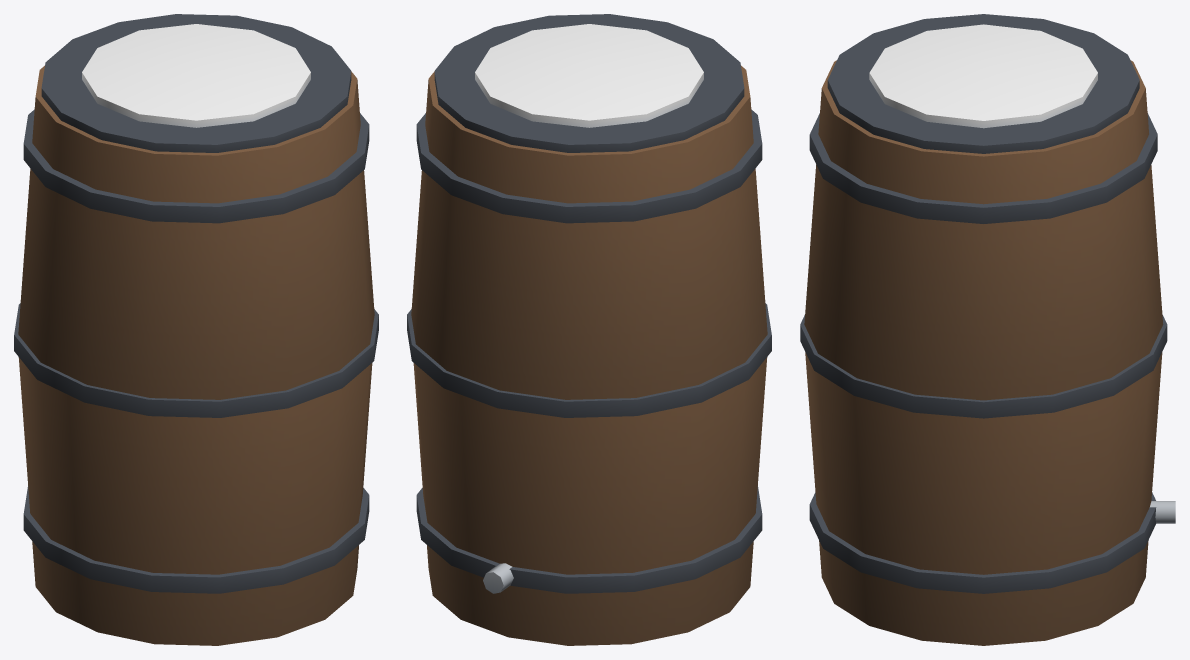
The model's file is ck_rain_barrel.fbx.
The picture shows the model from 3 angles, left to right: view 1: azimuth 30°, elevation 25°; view 2: azimuth 150°, elevation 25°; view 3: azimuth 270°, elevation 25°; orthographic projection.
Visible parts, largest first — view 1: ck_rain_barrel; view 2: ck_rain_barrel; view 3: ck_rain_barrel.
Part boxes in pixels (x1,y1,x2,y2): ck_rain_barrel: (14,14,378,645); ck_rain_barrel: (407,14,771,645); ck_rain_barrel: (800,14,1175,645).
Bounding box in the file's own units: 195 × 300 × 199.
